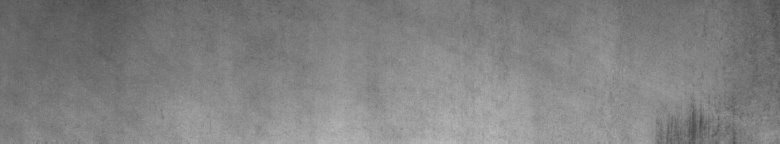ka: (664, 100, 740, 136)
